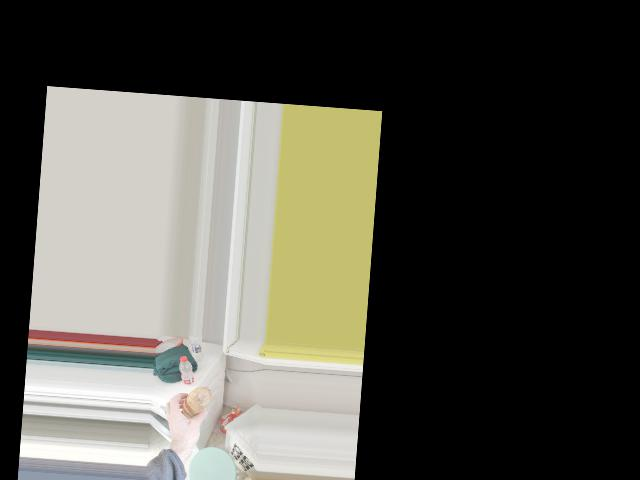sweet_potato: (182, 384, 211, 420)
